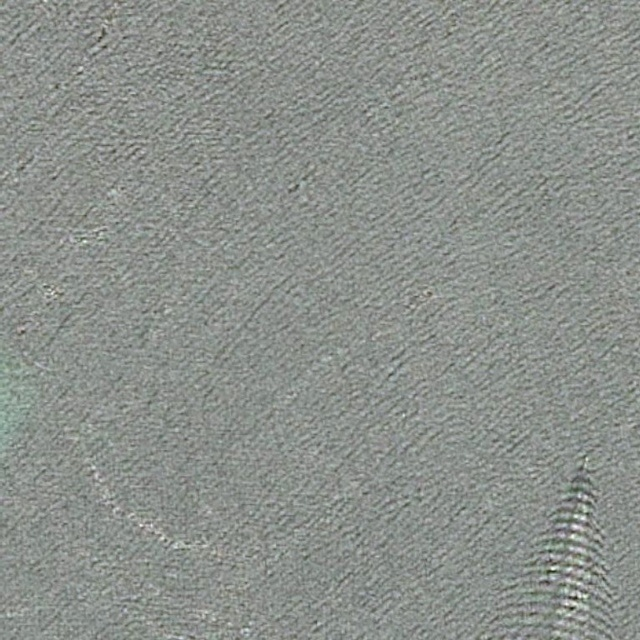wake: (525, 444, 623, 627)
